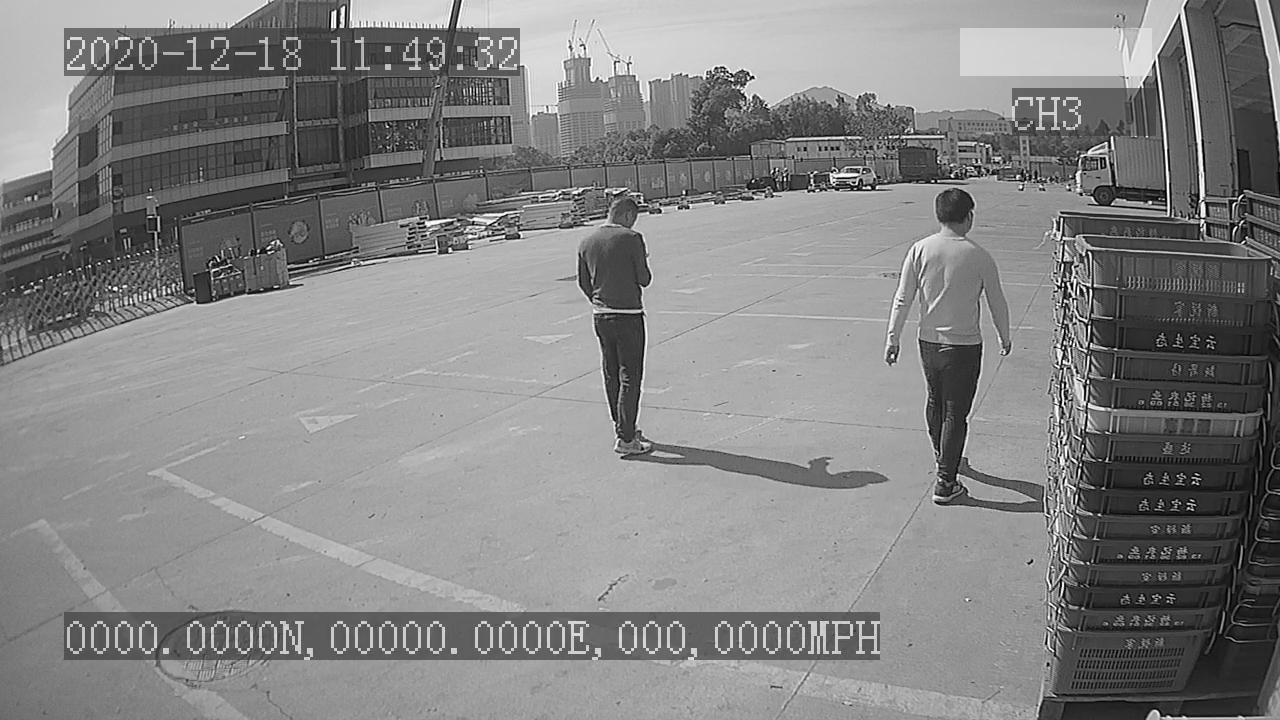person: (877, 185, 1015, 506), (570, 194, 663, 463)
